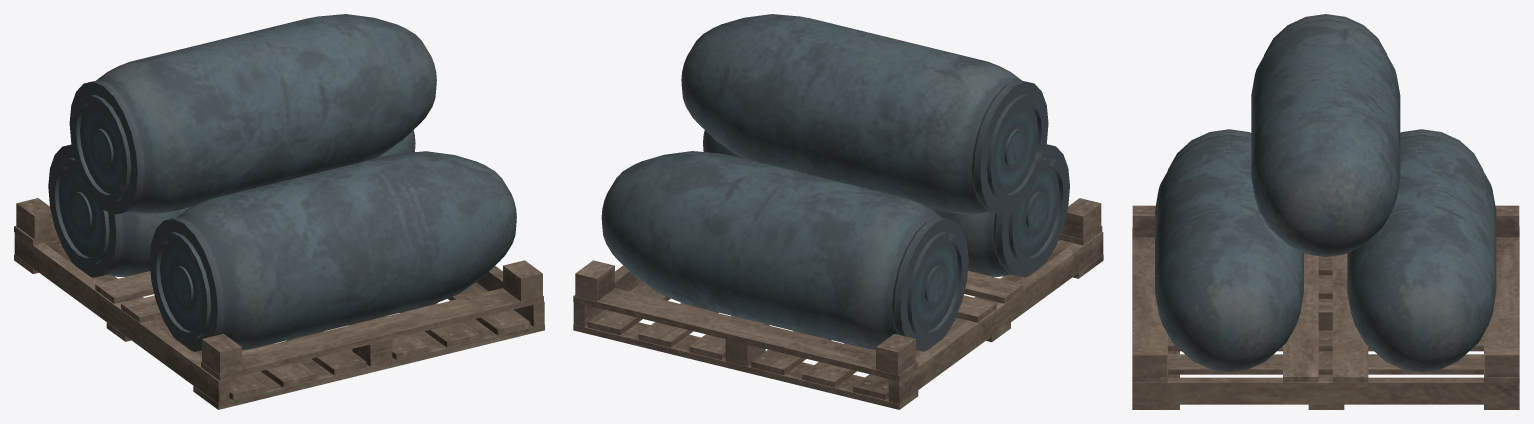
Rendered from SM_Missile_Pallet_1.fbx.
3 views of the same model, side by side, from view 1: azimuth 30°, elevation 25°; view 2: azimuth 150°, elevation 25°; view 3: azimuth 270°, elevation 25° (orthographic). The views are drawn at different scales.
Visible parts, largest first — view 1: SM_Missile_Pallet_1_LOD0; view 2: SM_Missile_Pallet_1_LOD0; view 3: SM_Missile_Pallet_1_LOD0.
Part boxes in pixels (box(x1,y1,x2,y2)): SM_Missile_Pallet_1_LOD0: box(14, 14, 544, 409); SM_Missile_Pallet_1_LOD0: box(573, 14, 1103, 409); SM_Missile_Pallet_1_LOD0: box(1132, 14, 1519, 409).
Bounding box in the file's own units: 131 × 130 × 91.79.
2 materials, 2 textured.
